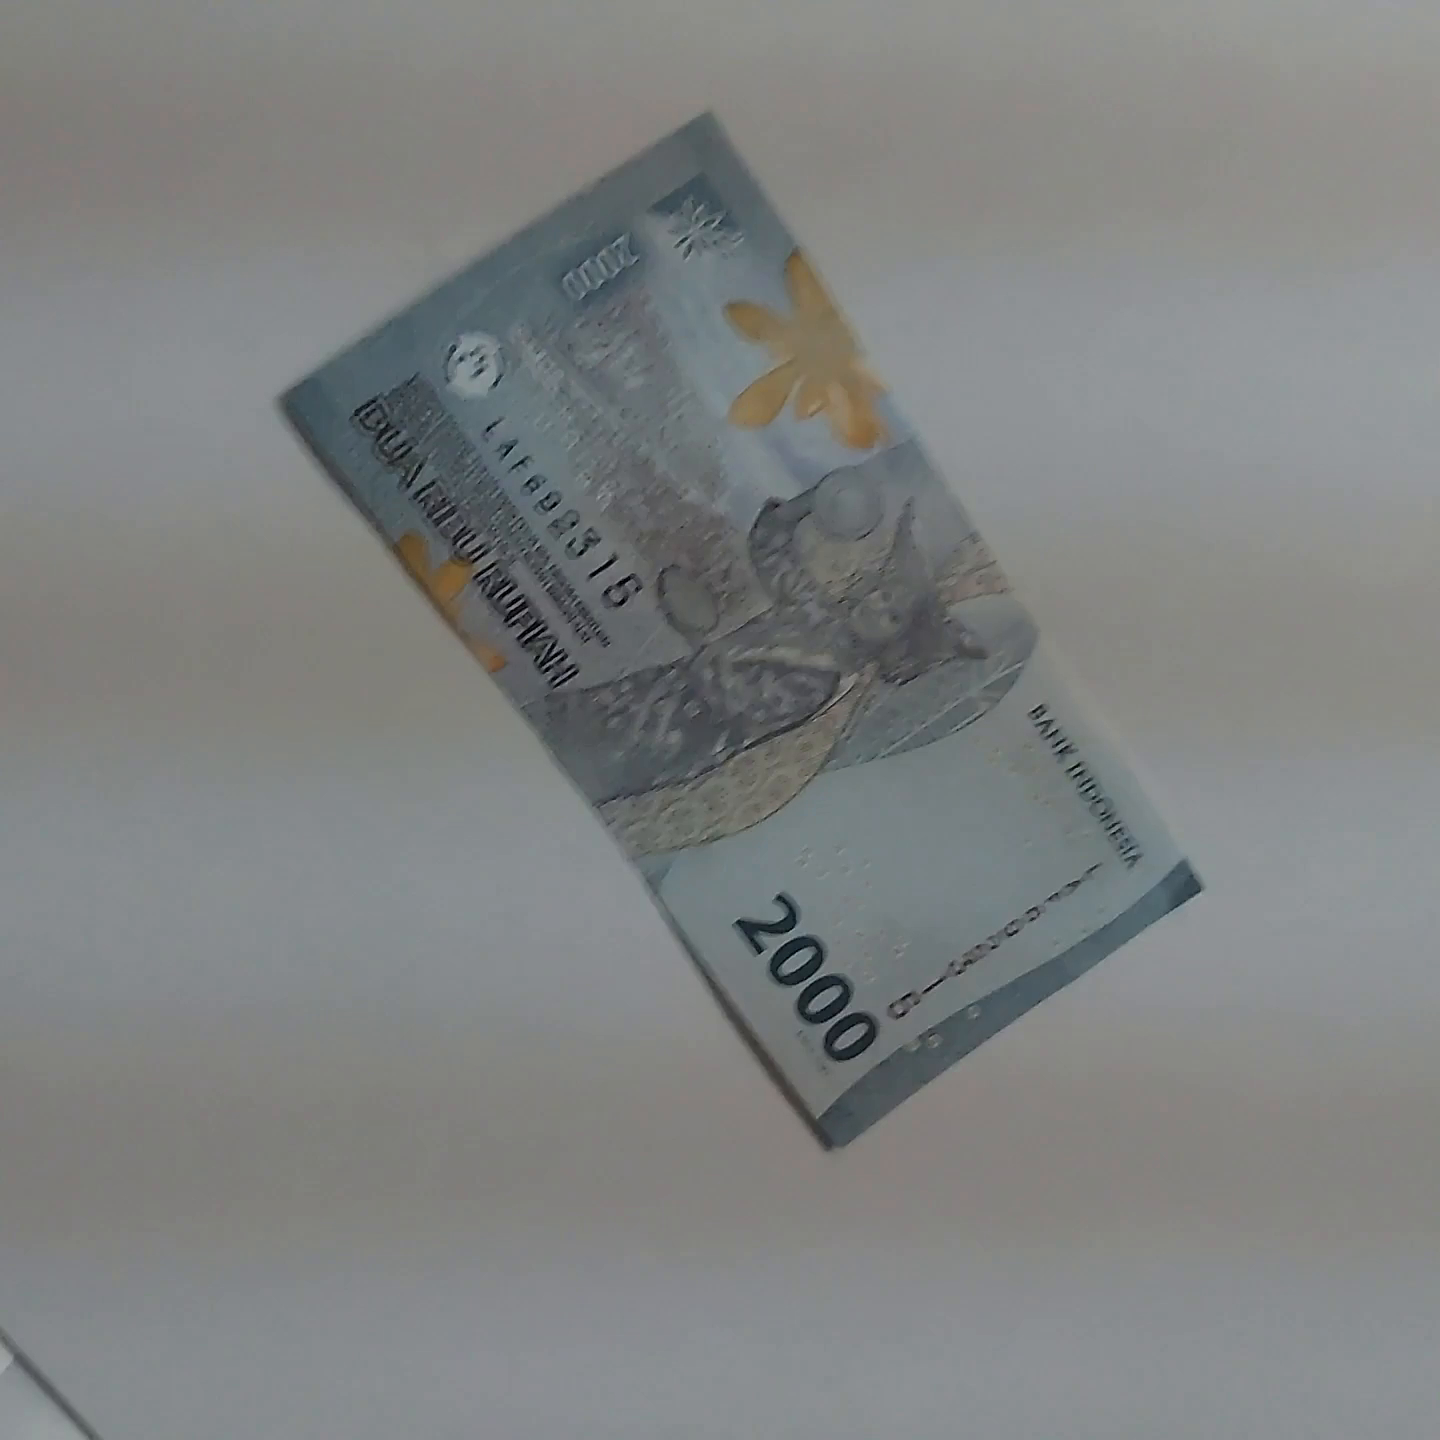2k: (287, 402, 748, 1338)
